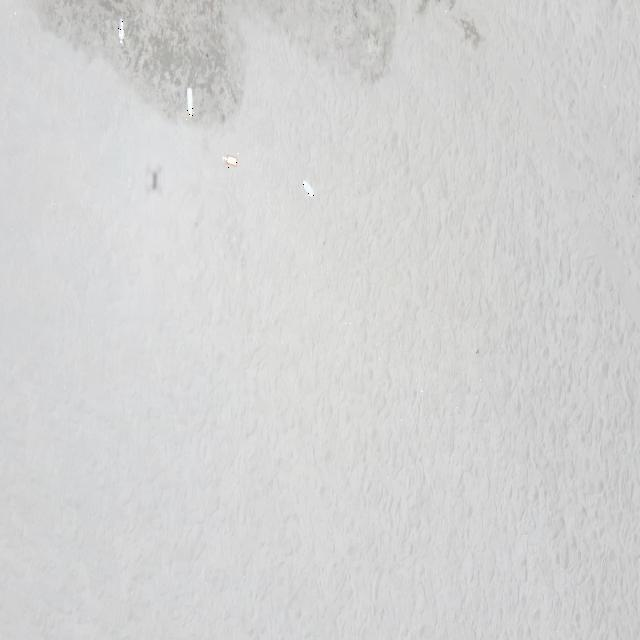Garbage: (301, 180, 312, 196), (223, 155, 238, 166), (187, 87, 192, 116), (118, 18, 123, 44)
